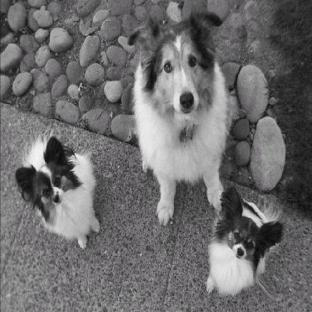Animal: (128, 12, 230, 225), (16, 136, 99, 247), (207, 187, 283, 294)
